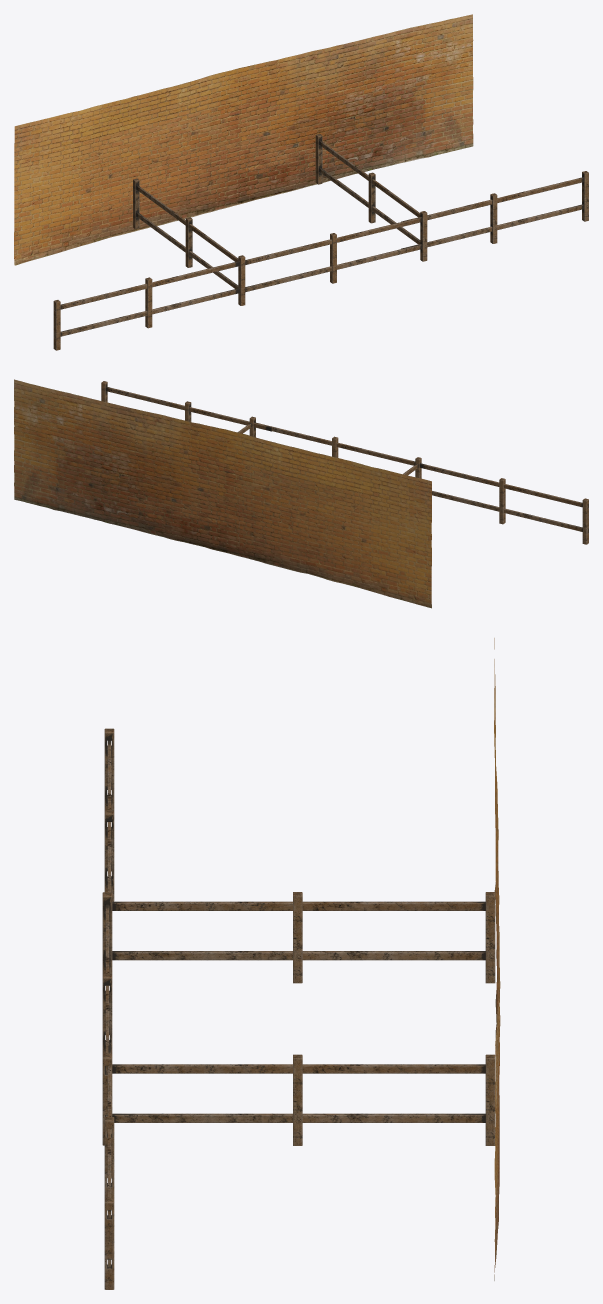
File: compressed_1742262595500_fence.glb
3 views of the same model, one above another, from view 1: azimuth 30°, elevation 25°; view 2: azimuth 150°, elevation 25°; view 3: azimuth 270°, elevation 25° (orthographic). The views are drawn at different scales.
Parts seen in each view (by area): view 1: Cube_1_Mat_0.003; view 2: Cube_1_Mat_0.003; view 3: Cube_1_Mat_0.003.
Boxes of the visible parts, x1,y1,x2,y2 form: Cube_1_Mat_0.003: [14, 14, 588, 350]; Cube_1_Mat_0.003: [14, 379, 588, 608]; Cube_1_Mat_0.003: [102, 638, 500, 1289].
Bounding box in the file's own units: 11.58 × 2.95 × 4.11.
Materials: 2 (2 with a texture image).
